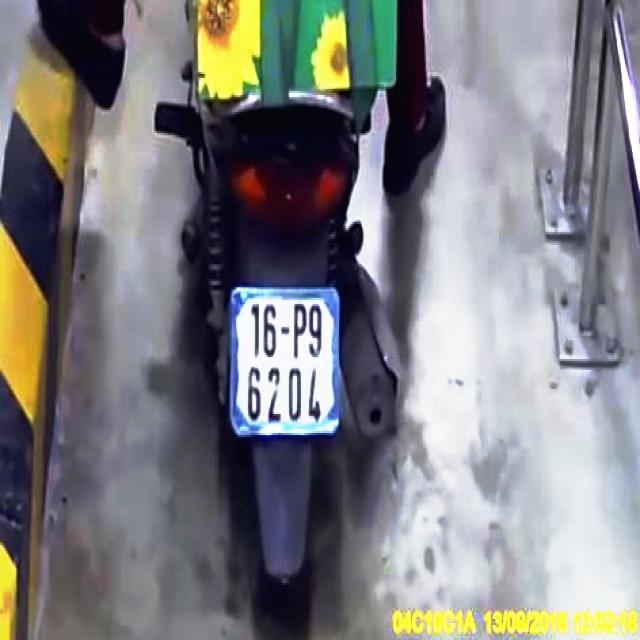license_plate: (235, 294, 336, 431)
